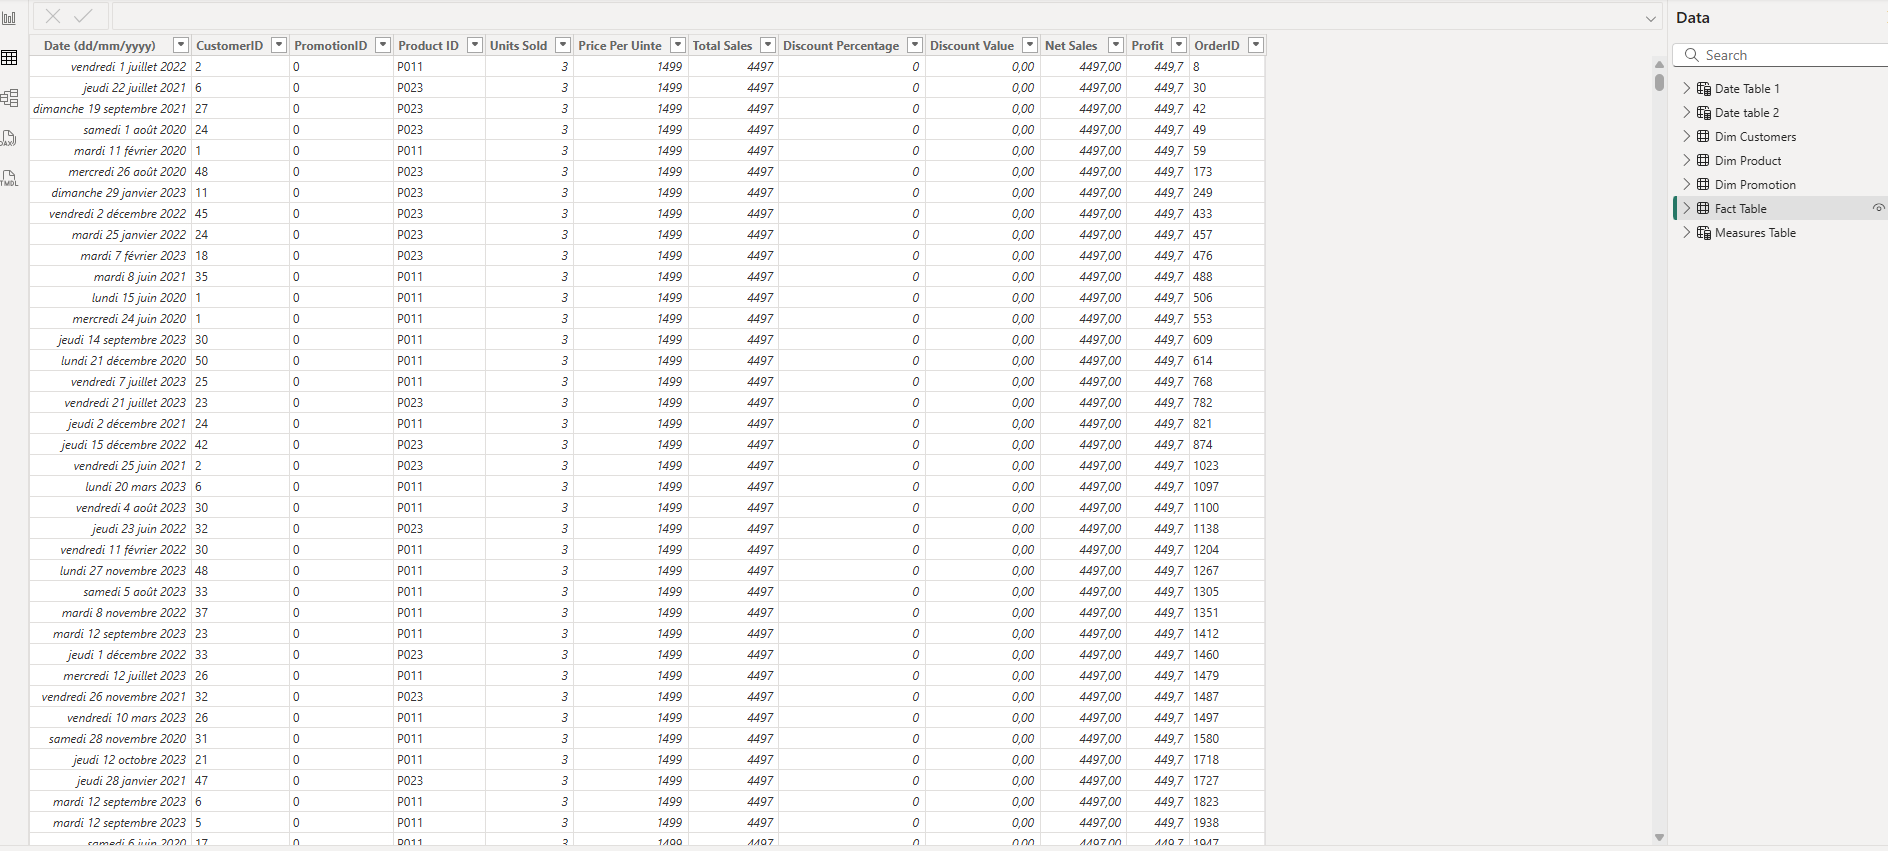

The page's visual inventory and layout, read from the dashboard file:
{"tool":"powerbi","page":{"name":"Table Visual","canvas":[1280,720],"ordinal":4},"visuals":[{"type":"tableEx","fields":{"Values":["Fact Table.CustomerID","Fact Table.Date (dd/mm/yyyy)","Fact Table.Discount Percentage","Fact Table.Discount Value","Fact Table.Product ID","Fact Table.Profit","Fact Table.PromotionID","Sum(Fact Table.Total Sales)","Sum(Fact Table.Units Sold)","Fact Table.Net Sales ","Fact Table.OrderID","Sum(Fact Table.Price Per Uinte)"]},"box":[5.4,143.3,1269.9,576.7],"z":0},{"type":"slicer","fields":{"Values":["Fact Table.Date (dd/mm/yyyy)"]},"box":[9.9,0,316.1,75.2],"z":1},{"type":"slicer","fields":{"Values":["Dim Customers.Customer Name"]},"box":[342.1,0,276.7,75.2],"z":2},{"type":"slicer","fields":{"Values":["Dim Product.Product Name"]},"box":[640.3,0,307.2,75.2],"z":3},{"type":"slicer","fields":{"Values":["Dim Promotion.Promotion Name"]},"box":[960,0,319.7,75.2],"z":4}]}

Visuals, with their boxes on the page's 1280x720 design canvas (x1, y1, x2, y2). These are canvas units, not pixel positions in the 1888x851 screenshot, which may show the page scaled, cropped or inside an application window:
tableEx - Fact Table.CustomerID x Fact Table.Date (dd/mm/yyyy): crop(5, 143, 1275, 720)
slicer - Fact Table.Date (dd/mm/yyyy): crop(10, 0, 326, 75)
slicer - Dim Customers.Customer Name: crop(342, 0, 619, 75)
slicer - Dim Product.Product Name: crop(640, 0, 948, 75)
slicer - Dim Promotion.Promotion Name: crop(960, 0, 1280, 75)
